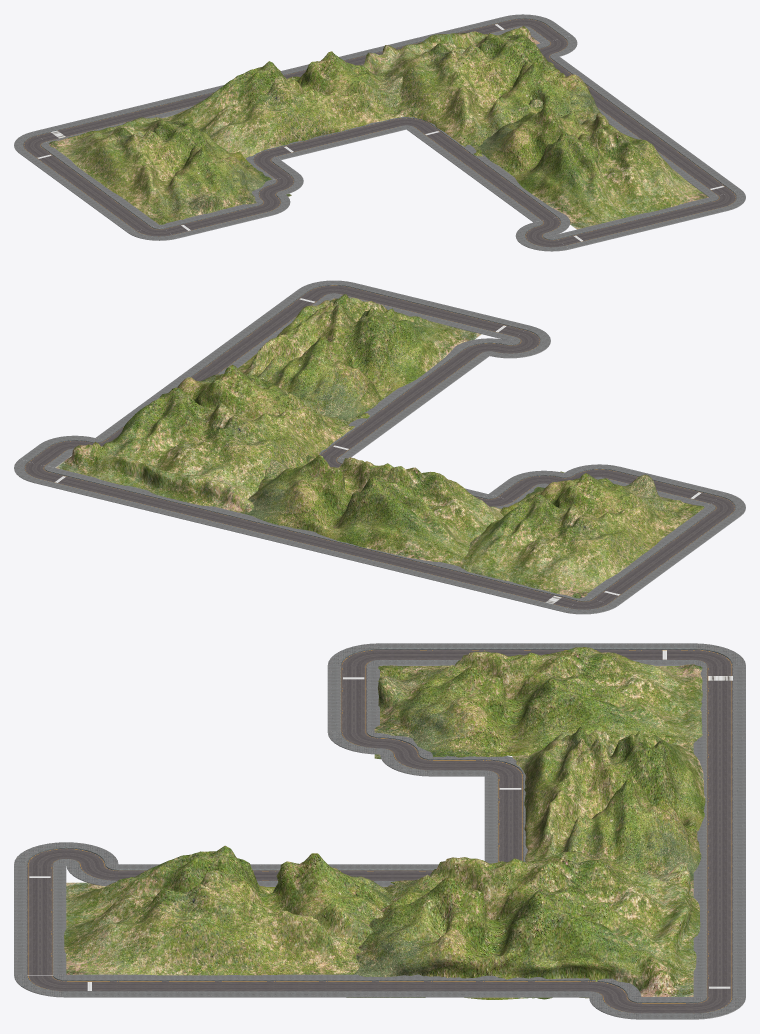
The model's file is AIC.obj.
The picture shows the model from 3 angles, top to bottom: view 1: azimuth 30°, elevation 25°; view 2: azimuth 150°, elevation 25°; view 3: azimuth 270°, elevation 25°; orthographic projection. The views are drawn at different scales.
Visible parts, largest first — view 1: Landscape.004, Landscape, Landscape.003, Landscape.001, Plane.042_Plane.077, Plane.080_Plane.083, Plane.062_Plane.056, Plane.049_Plane.017, Plane.053_Plane.033, Plane.063_Plane.057, Plane.069, Plane.076 (+42 smaller); view 2: Landscape.004, Landscape.001, Landscape.003, Landscape, Plane.042_Plane.077, Plane.063_Plane.057, Plane.049_Plane.017, Plane.069, Plane.041_Plane.047, Plane.034_Plane.041, Plane.077_Plane.079, Plane.039_Plane.045 (+41 smaller); view 3: Landscape.004, Landscape, Landscape.001, Landscape.003, Plane.088_Plane.091, Plane.083_Plane.086, Plane.086_Plane.089, Plane.049_Plane.017, Plane.077_Plane.079, Plane.087_Plane.090, Plane.062_Plane.056, Plane.080_Plane.083 (+49 smaller).
Boxes of the visible parts, box(x1,y1,x2,y2) form: Landscape.004: box(363, 26, 609, 156); Landscape: box(477, 99, 708, 229); Landscape.003: box(166, 51, 420, 158); Landscape.001: box(49, 116, 291, 224); Plane.042_Plane.077: box(584, 220, 633, 241); Plane.080_Plane.083: box(615, 213, 664, 233); Plane.062_Plane.056: box(678, 197, 727, 218); Plane.049_Plane.017: box(110, 211, 158, 232); Plane.053_Plane.033: box(191, 209, 240, 230); Plane.063_Plane.057: box(91, 198, 140, 219); Plane.069: box(461, 161, 510, 182); Plane.076: box(552, 228, 601, 249); Landscape.004: box(56, 364, 369, 513); Landscape.001: box(454, 471, 704, 598); Landscape.003: box(245, 455, 503, 564); Landscape: box(238, 294, 481, 421); Plane.042_Plane.077: box(440, 308, 494, 332); Plane.063_Plane.057: box(665, 522, 719, 545); Plane.049_Plane.017: box(685, 507, 740, 530); Plane.069: box(375, 391, 428, 414); Plane.041_Plane.047: box(34, 468, 89, 491); Plane.034_Plane.041: box(210, 511, 263, 534); Plane.077_Plane.079: box(19, 444, 72, 467); Plane.039_Plane.045: box(105, 485, 157, 508); Landscape.004: box(346, 851, 700, 999); Landscape: box(64, 845, 419, 975); Landscape.001: box(374, 647, 702, 759); Landscape.003: box(512, 726, 705, 878); Plane.088_Plane.091: box(275, 974, 327, 997); Plane.083_Plane.086: box(118, 974, 170, 997); Plane.086_Plane.089: box(66, 974, 118, 997); Plane.049_Plane.017: box(380, 643, 432, 665); Plane.077_Plane.079: box(641, 997, 693, 1019); Plane.087_Plane.090: box(223, 975, 275, 997); Plane.062_Plane.056: box(14, 952, 66, 975); Plane.080_Plane.083: box(14, 908, 66, 931).
Bounding box in the file's own units: 408 × 41.06 × 336.
281 materials, 280 textured.
